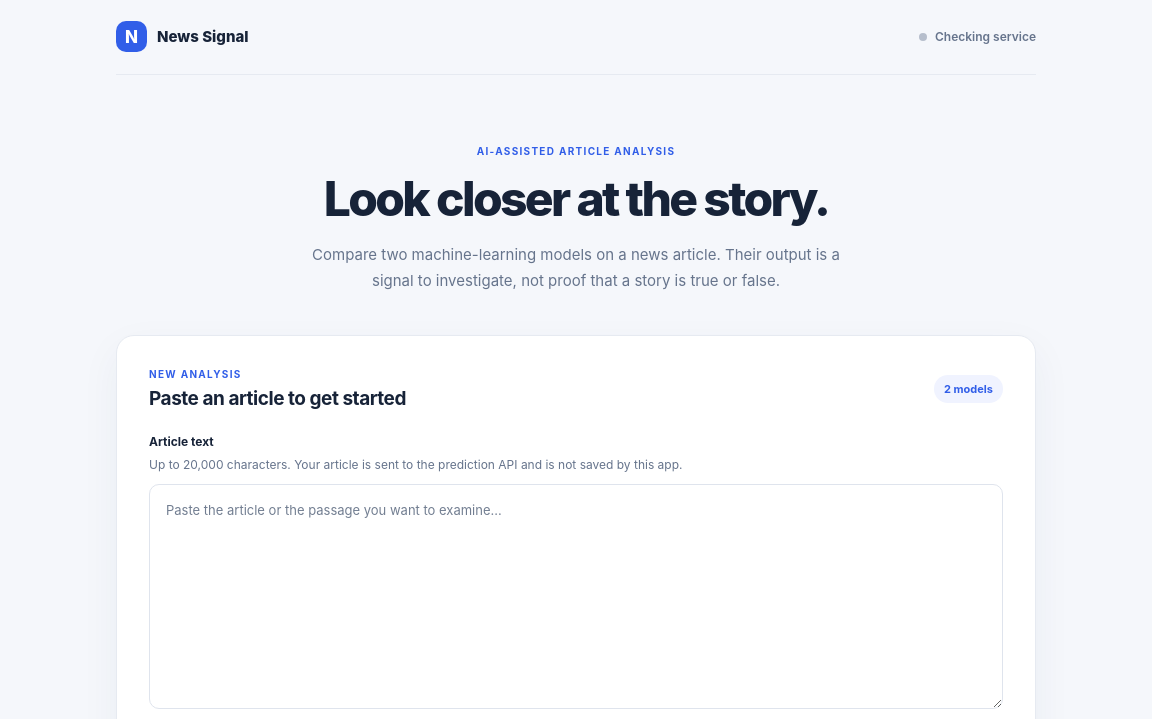
Scenario: article analysis › does not imply certainty from model agreement
The width and height of the screenshot is (1152, 719).
Type "A sample article." into the text box labelled "Article text" at (576, 596), box x1=149 y1=484 x2=1003 y2=709
(page scrolled)
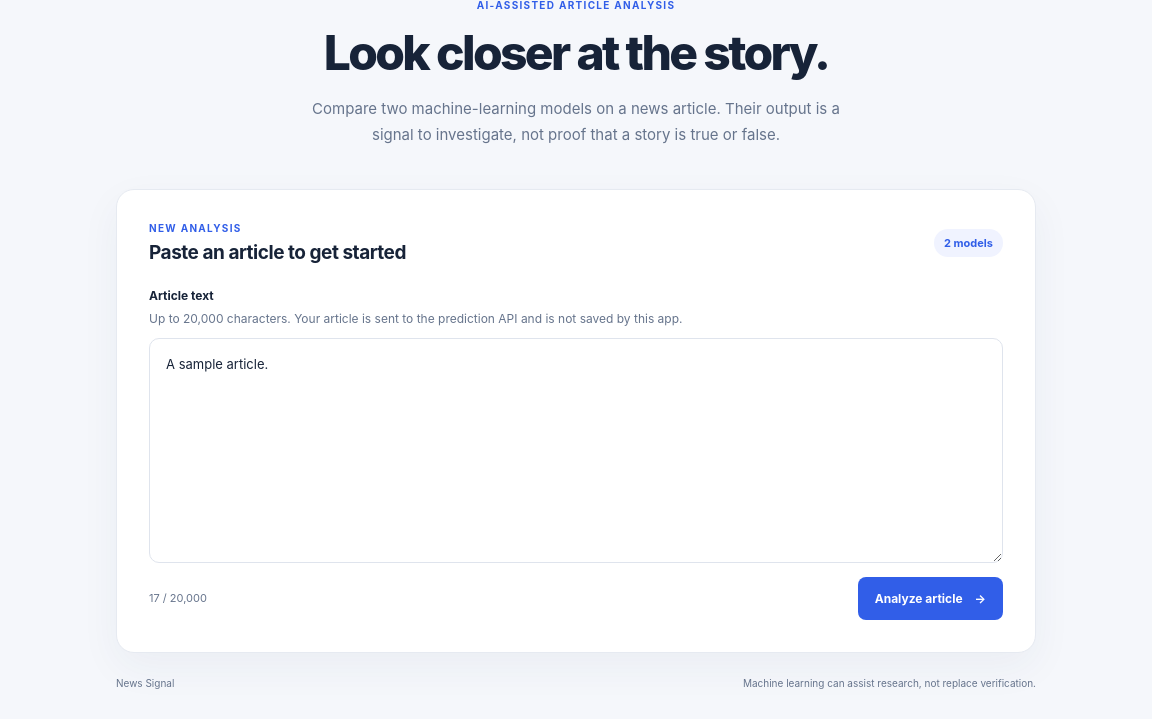
Click the button "Analyze article →" at (930, 598), box x1=858 y1=577 x2=1003 y2=620
(page scrolled)
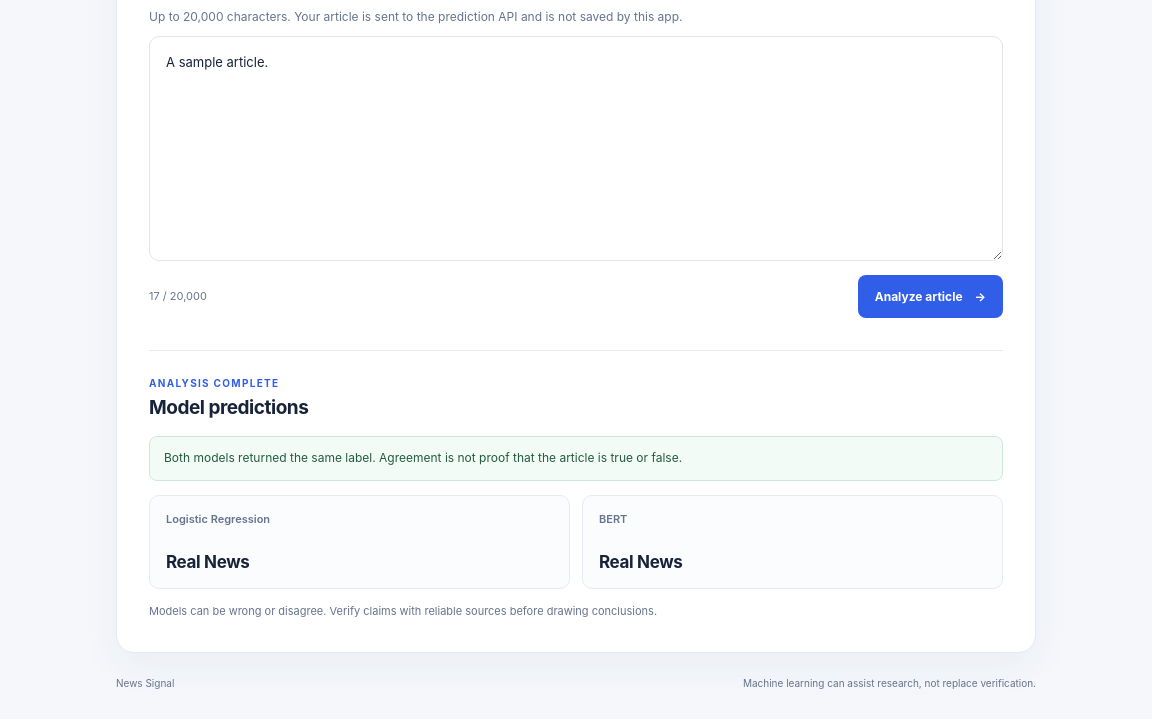
Check: the text "Agreement is not proof that the article is true or false" is shown, box x1=164 y1=450 x2=682 y2=465
